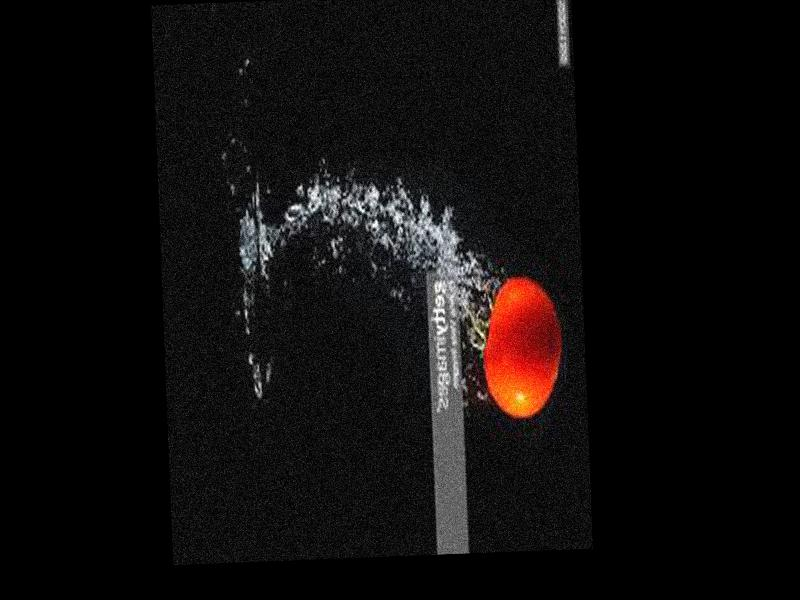Tomato: (480, 274, 561, 419)
